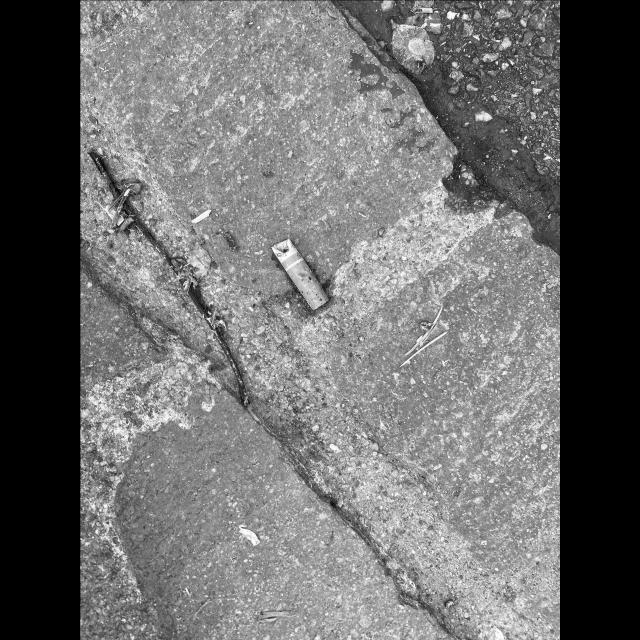cigarette: (270, 238, 329, 310)
